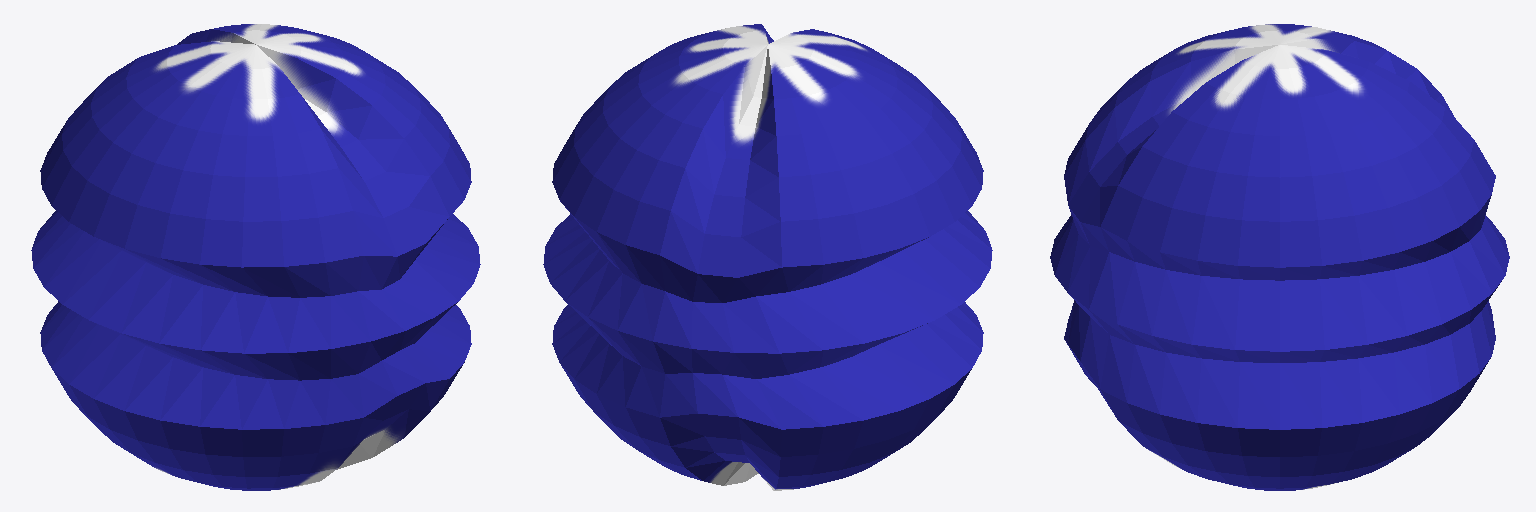
3 views of the same model, side by side, from view 1: azimuth 30°, elevation 25°; view 2: azimuth 150°, elevation 25°; view 3: azimuth 270°, elevation 25° (orthographic).
Parts seen in each view (by area): view 1: Sphere; view 2: Sphere; view 3: Sphere.
Boxes of the visible parts, x1=… form: Sphere: x1=31, y1=24, x2=480, y2=490; Sphere: x1=543, y1=24, x2=992, y2=490; Sphere: x1=1050, y1=24, x2=1509, y2=490.
Size of the model in its own units: 1.91 by 2 by 1.97.
Materials: 1 (1 with a texture image).